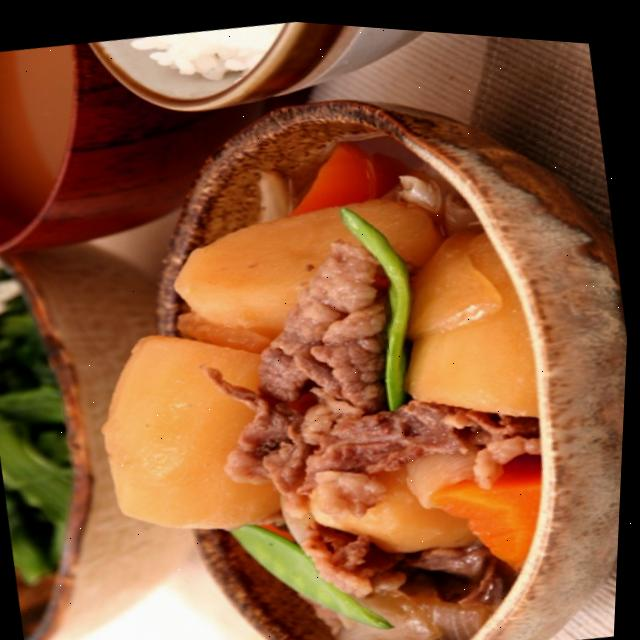牛肉菜式: (33, 25, 639, 640)
